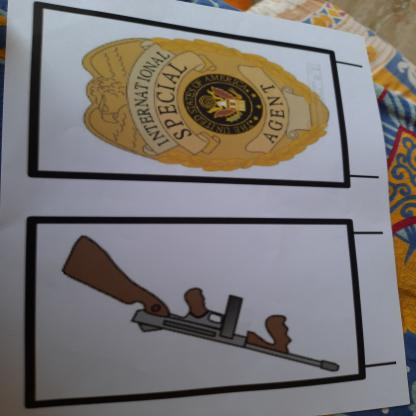Bootlegger: (51, 226, 363, 393)
G-man: (56, 32, 332, 189)
